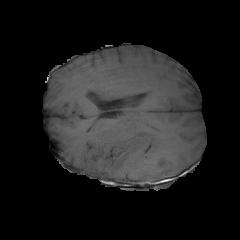glioma: (99, 123, 176, 175)
